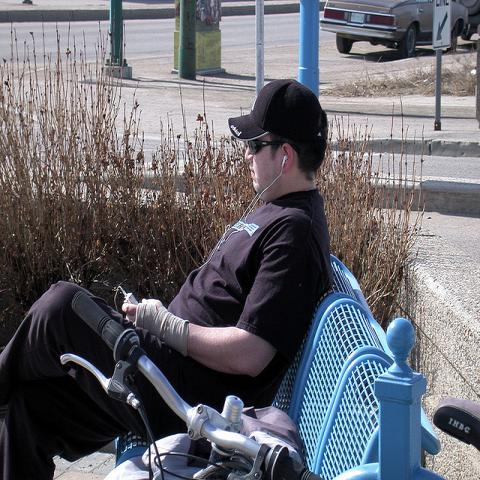car: (320, 0, 469, 59)
